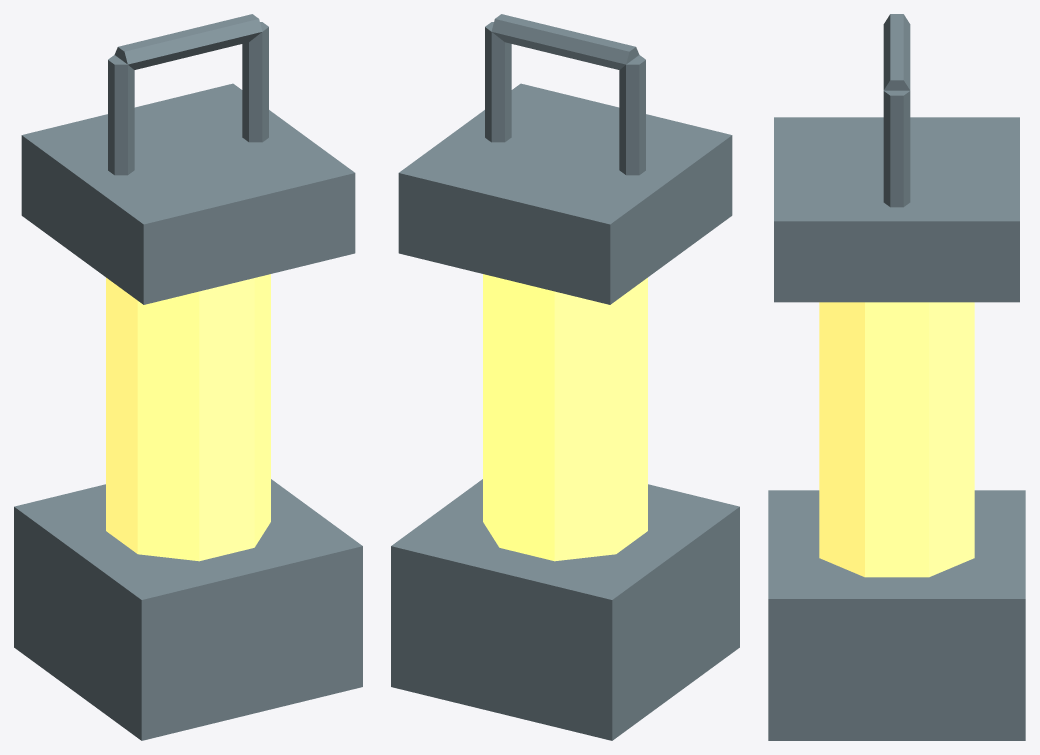
Rendered from Mine_Lantern.glb.
3 renders of one model, left to right at view 1: azimuth 30°, elevation 25°; view 2: azimuth 150°, elevation 25°; view 3: azimuth 270°, elevation 25°, orthographic.
Visible parts, largest first — view 1: Mine_Lantern; view 2: Mine_Lantern; view 3: Mine_Lantern.
Boxes of the visible parts, box(x1,y1,x2,y2) form: Mine_Lantern: box(14, 14, 362, 740); Mine_Lantern: box(391, 14, 739, 740); Mine_Lantern: box(768, 14, 1025, 740).
Size of the model in its own units: 0.23 by 0.6304 by 0.23.
